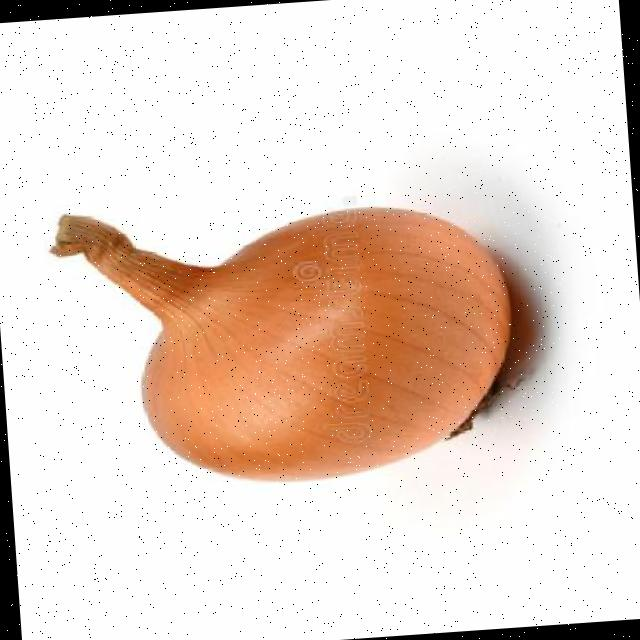Onion: (50, 206, 510, 479)
